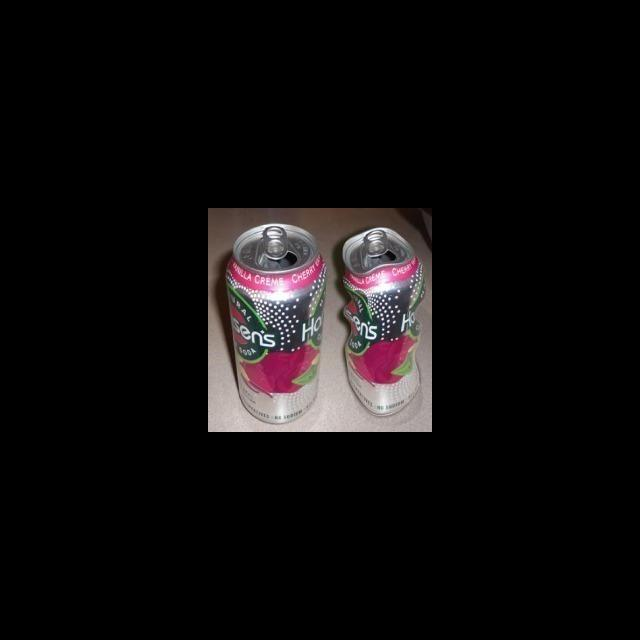metal: (223, 214, 328, 427), (334, 220, 432, 420)
